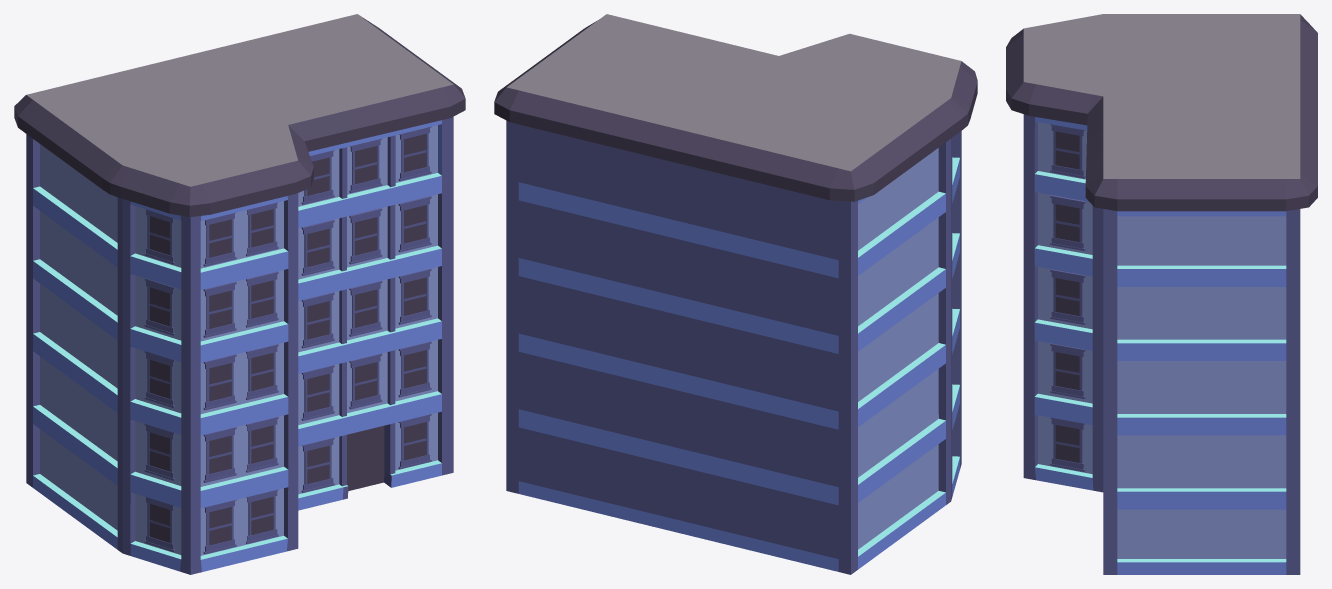
File: building 3 - blue.fbx
The picture shows the model from 3 angles, left to right: view 1: azimuth 30°, elevation 25°; view 2: azimuth 150°, elevation 25°; view 3: azimuth 270°, elevation 25°; orthographic projection. The views are drawn at different scales.
Parts seen in each view (by area): view 1: pCube2, pasted__pCube14 (×29); view 2: pCube2; view 3: pCube2, pasted__pCube14 (×5).
Part boxes in pixels (<box>): pCube2: <box>14,14,465,574</box>; pasted__pCube14 (×29): <box>149,134,426,545</box>; pCube2: <box>494,14,977,574</box>; pCube2: <box>1006,14,1317,574</box>; pasted__pCube14 (×5): <box>1055,131,1079,462</box>.
Bounding box in the file's own units: 21.65 × 22.23 × 15.86.
